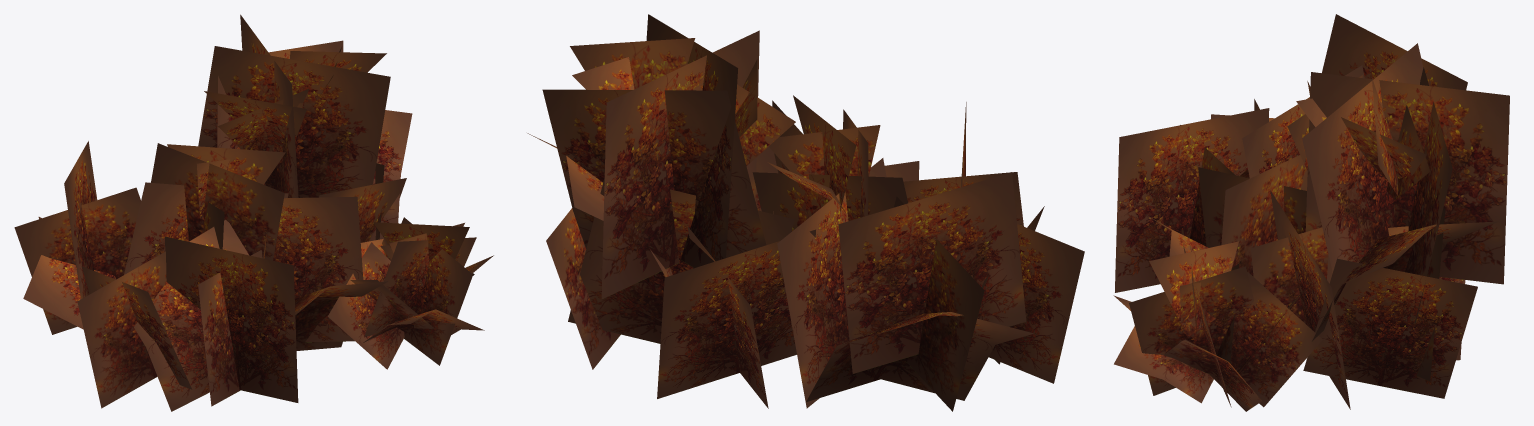
The model's file is yw_huanghunhupan_guanmu01.FBX.
The picture shows the model from 3 angles, left to right: view 1: azimuth 30°, elevation 25°; view 2: azimuth 150°, elevation 25°; view 3: azimuth 270°, elevation 25°; orthographic projection. The views are drawn at different scales.
Visible parts, largest first — view 1: yw_huanghunhupan_guanmu01; view 2: yw_huanghunhupan_guanmu01; view 3: yw_huanghunhupan_guanmu01.
Part boxes in pixels (x1=…): yw_huanghunhupan_guanmu01: x1=14, y1=14, x2=493, y2=411; yw_huanghunhupan_guanmu01: x1=527, y1=14, x2=1084, y2=411; yw_huanghunhupan_guanmu01: x1=1113, y1=14, x2=1509, y2=411.
Bounding box in the file's own units: 203 × 129 × 155.
